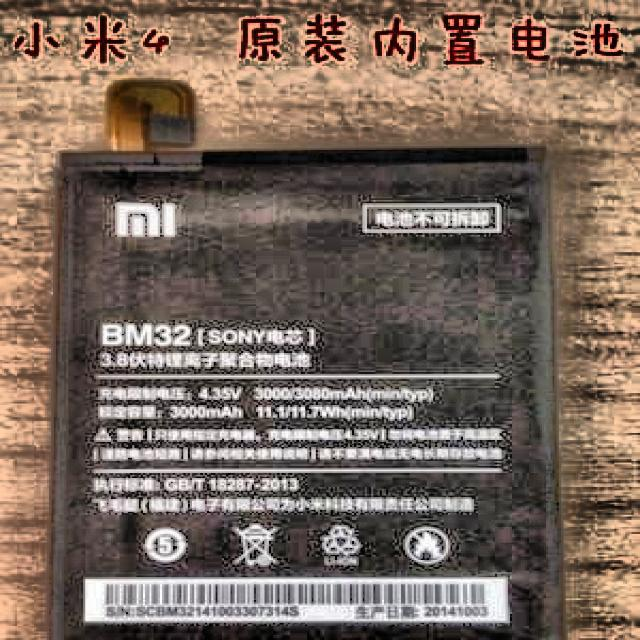Non-Valuable Waste - Batteries: (52, 149, 564, 639)
